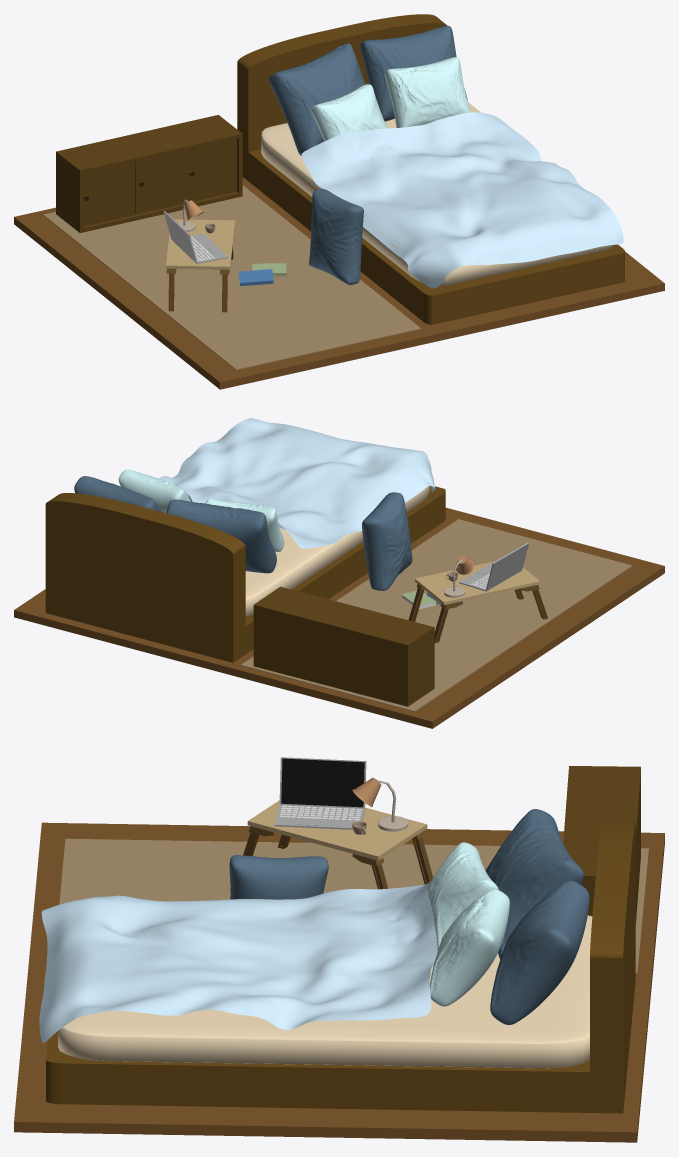
The picture shows the model from 3 angles, top to bottom: view 1: azimuth 30°, elevation 25°; view 2: azimuth 150°, elevation 25°; view 3: azimuth 270°, elevation 25°; orthographic projection. The views are drawn at different scales.
Parts seen in each view (by area): view 1: blanket, carpet, bed, floor1, boxboard, p3, p2, futon, p5, p4, p1, table (+1 smaller); view 2: bed, blanket, carpet, boxboard, floor1, futon, p5, p3, table, p2, laptop, p4 (+2 smaller); view 3: blanket, bed, floor1, futon, carpet, p4, boxboard, p3, laptop, p2, table, p5 (+2 smaller).
Boxes of the visible parts, x1,y1,x2,y2 form: blanket: (301, 112, 623, 288); carpet: (43, 185, 421, 369); bed: (237, 14, 624, 324); floor1: (14, 177, 664, 389); boxboard: (56, 115, 242, 232); p3: (269, 43, 365, 155); p2: (384, 57, 470, 127); futon: (261, 102, 614, 286); p5: (309, 189, 363, 284); p4: (360, 25, 467, 121); p1: (311, 84, 387, 141); table: (166, 219, 235, 312); bed: (45, 486, 445, 662); blanket: (158, 418, 435, 548); carpet: (241, 519, 632, 711); boxboard: (253, 586, 434, 706); floor1: (14, 507, 664, 728); futon: (173, 475, 430, 616); p5: (362, 492, 412, 590); p3: (167, 499, 276, 573); table: (408, 561, 547, 643); p2: (118, 469, 192, 513); laptop: (459, 542, 528, 591); p4: (74, 476, 161, 511); blanket: (39, 881, 437, 1043); bed: (46, 821, 635, 1113); floor1: (14, 822, 664, 1142); futon: (58, 915, 592, 1068); carpet: (59, 838, 648, 973); p4: (490, 880, 589, 1024); boxboard: (563, 766, 640, 924); p3: (485, 809, 583, 959); laptop: (274, 757, 366, 829); p2: (430, 889, 509, 1006); table: (243, 800, 433, 889); p5: (229, 855, 328, 899).
Bounding box in the file's own units: 5.4 × 1.53 × 4.8.
